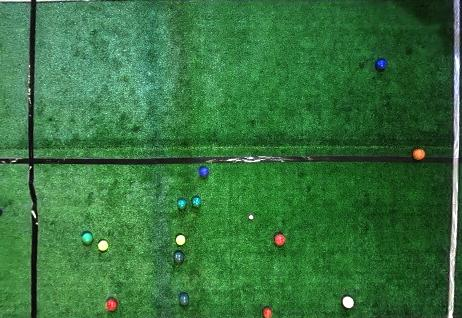blue: (376, 58, 388, 70), (199, 166, 209, 178)
green: (82, 232, 93, 245), (174, 251, 184, 263), (179, 294, 189, 306), (192, 196, 202, 207), (177, 199, 187, 210)
red: (412, 148, 426, 160), (342, 296, 355, 308), (106, 298, 118, 311), (274, 234, 286, 246), (262, 306, 273, 317)
vline: (1, 1, 39, 317), (444, 1, 461, 317)
white: (249, 215, 253, 219)
yellow: (98, 240, 108, 251), (176, 235, 186, 245)
